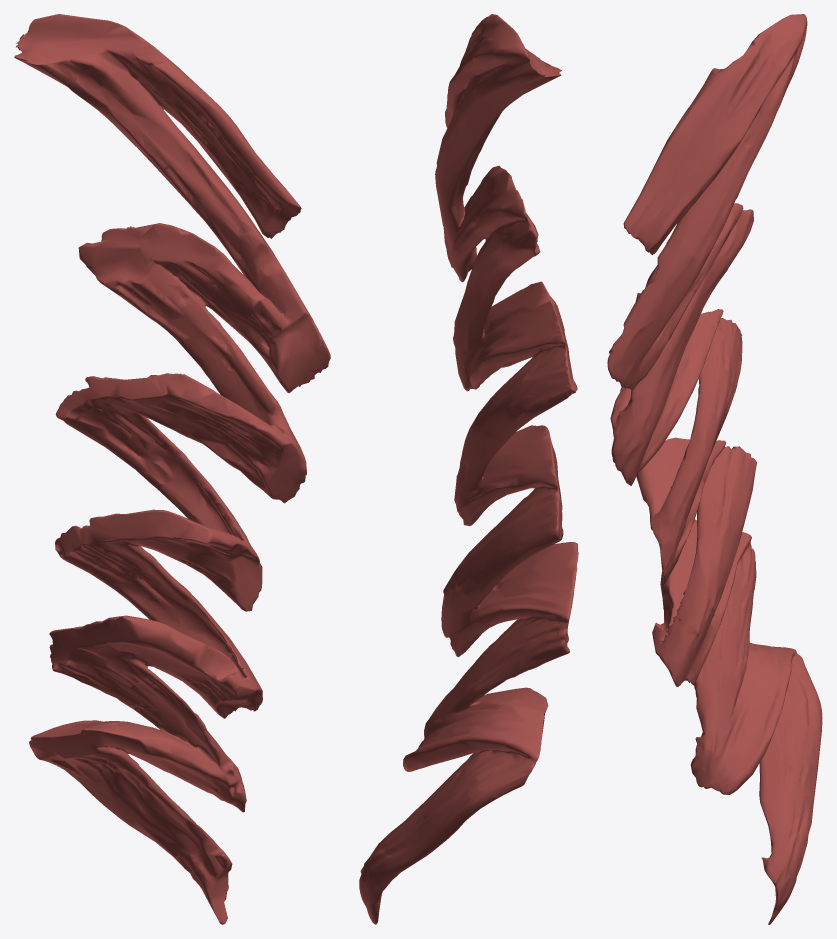
Rendered from FMA81753.glb.
3 views of the same model, side by side, from view 1: azimuth 30°, elevation 25°; view 2: azimuth 150°, elevation 25°; view 3: azimuth 270°, elevation 25° (orthographic). The views are drawn at different scales.
Parts seen in each view (by area): view 1: FMA81753; view 2: FMA81753; view 3: FMA81753.
Boxes of the visible parts, x1,y1,x2,y2 form: FMA81753: [14, 14, 330, 924]; FMA81753: [359, 14, 578, 924]; FMA81753: [607, 14, 822, 924].
Bounding box in the file's own units: 0.0228 × 0.0948 × 0.0219.
